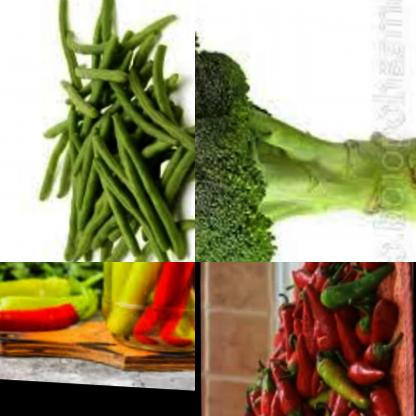beans: (31, 0, 195, 262)
broccoli: (195, 0, 416, 262)
hot pepper: (223, 262, 404, 416), (98, 262, 195, 348), (0, 264, 99, 335), (0, 289, 92, 355)
